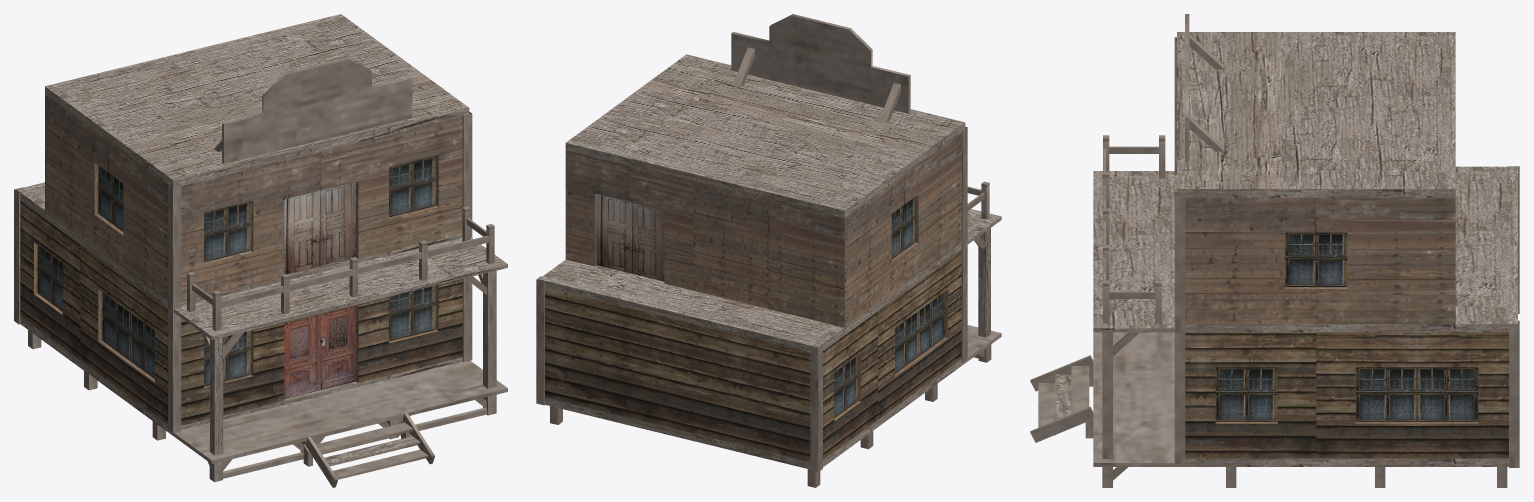
The model's file is House3.fbx.glb.
3 views of the same model, side by side, from view 1: azimuth 30°, elevation 25°; view 2: azimuth 150°, elevation 25°; view 3: azimuth 270°, elevation 25° (orthographic). The views are drawn at different scales.
Parts seen in each view (by area): view 1: Plane004.5, House3.1, Box005.12, Plane003.3, Box007.68, Box033.70, Box006.16, Box004.4, Box003.2, Box021.24, Box020.23, Box009.18 (+10 smaller); view 2: House3.1, Box005.12, Box004.4, Box033.70, Box003.2, Box032.34, Box009.18, Box022.25, Box021.24, Box020.23, Box006.16, Box007.68; view 3: House3.1, Box005.12, Box004.4, Box006.16, Box007.68, Box003.2, Box019.22, Box022.25, Box018.21, Box010.19, Box096.63, Box090.62 (+4 smaller).
Boxes of the visible parts, <box> form: Plane004.5: <box>181,117,462,301</box>; House3.1: <box>20,94,357,423</box>; Box005.12: <box>45,14,469,186</box>; Plane003.3: <box>181,279,462,425</box>; Box007.68: <box>173,360,507,463</box>; Box033.70: <box>222,58,412,163</box>; Box006.16: <box>174,237,507,339</box>; Box004.4: <box>16,182,462,307</box>; Box003.2: <box>20,316,462,435</box>; Box021.24: <box>168,183,181,312</box>; Box020.23: <box>168,309,181,432</box>; Box009.18: <box>210,337,223,455</box>; House3.1: <box>545,133,961,461</box>; Box005.12: <box>565,54,965,217</box>; Box004.4: <box>538,242,961,352</box>; Box033.70: <box>731,14,910,113</box>; Box003.2: <box>545,359,965,469</box>; Box032.34: <box>810,345,822,472</box>; Box009.18: <box>978,228,990,337</box>; Box022.25: <box>536,276,544,405</box>; Box021.24: <box>961,126,967,249</box>; Box020.23: <box>961,246,967,362</box>; Box006.16: <box>967,209,1001,244</box>; Box007.68: <box>965,325,1001,362</box>; House3.1: <box>1185,197,1508,458</box>; Box005.12: <box>1177,32,1455,197</box>; Box004.4: <box>1185,166,1517,332</box>; Box006.16: <box>1093,171,1176,332</box>; Box007.68: <box>1093,332,1176,466</box>; Box003.2: <box>1177,458,1508,466</box>; Box019.22: <box>1174,191,1185,333</box>; Box022.25: <box>1509,320,1519,467</box>; Box018.21: <box>1174,333,1185,463</box>; Box010.19: <box>1102,332,1112,458</box>; Box096.63: <box>1030,406,1093,442</box>; Box090.62: <box>1071,366,1089,414</box>.
Size of the model in its own units: 809 by 922 by 1053.
Materials: 69 (69 with a texture image).
